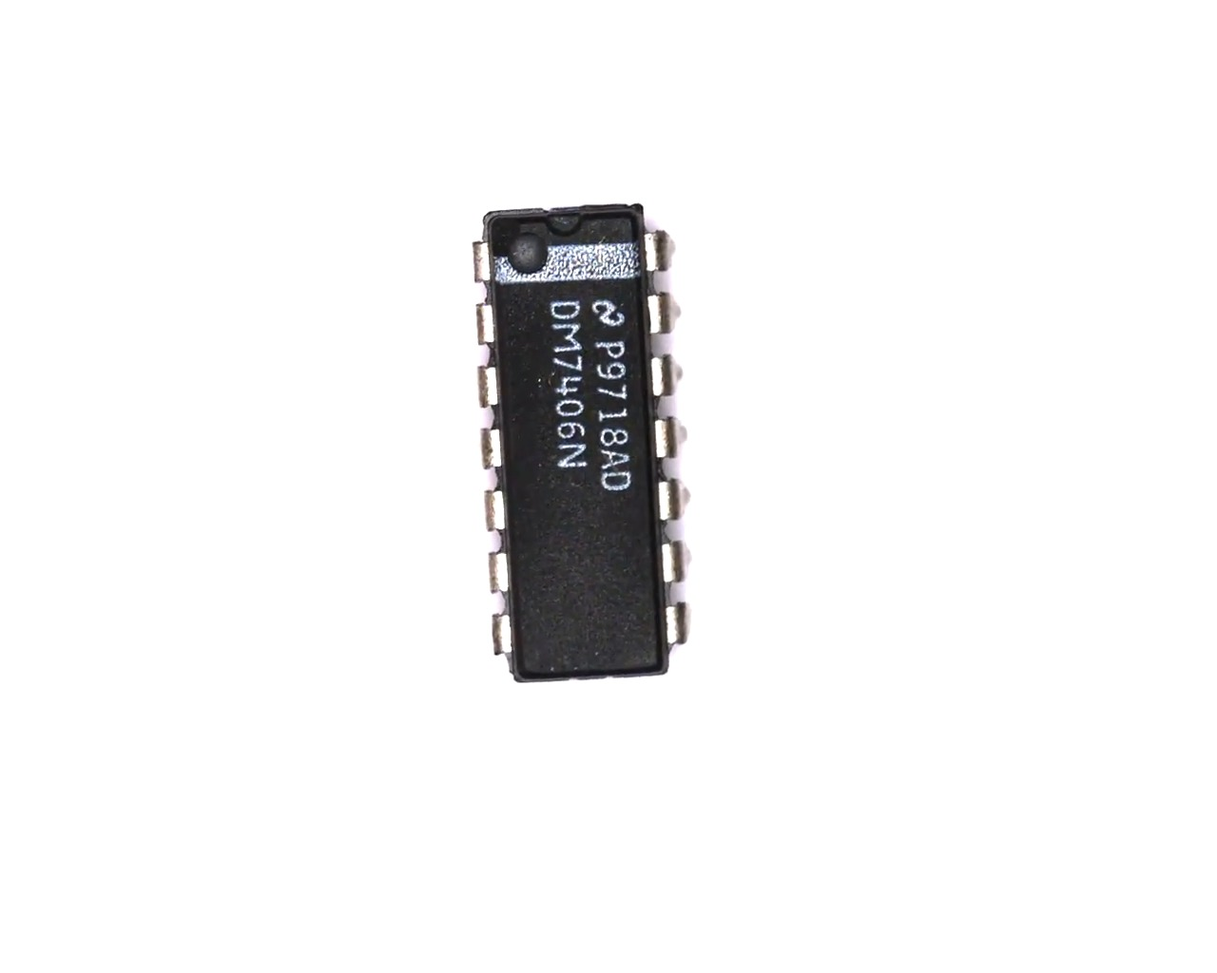IC: (454, 195, 701, 700)
notch: (542, 200, 589, 243)
